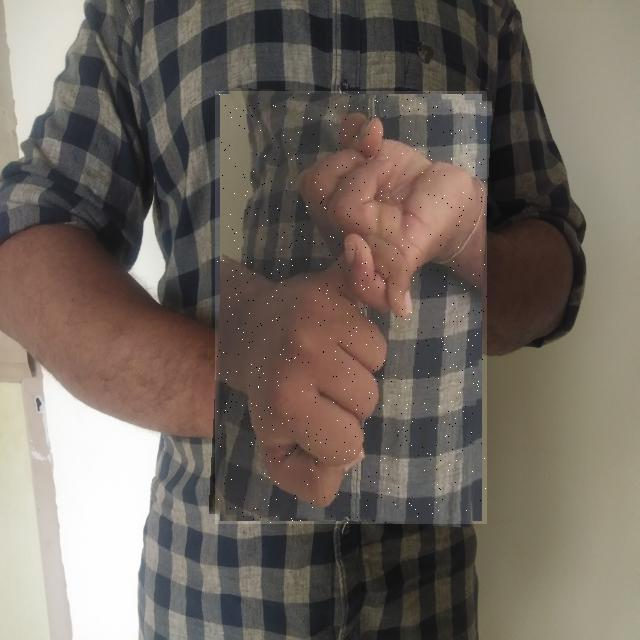S: (215, 91, 487, 524)
